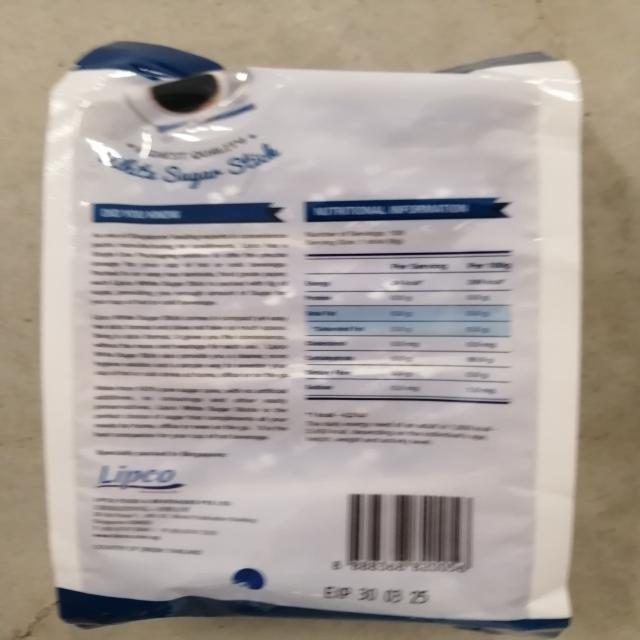object_name: (47, 73, 574, 628)
